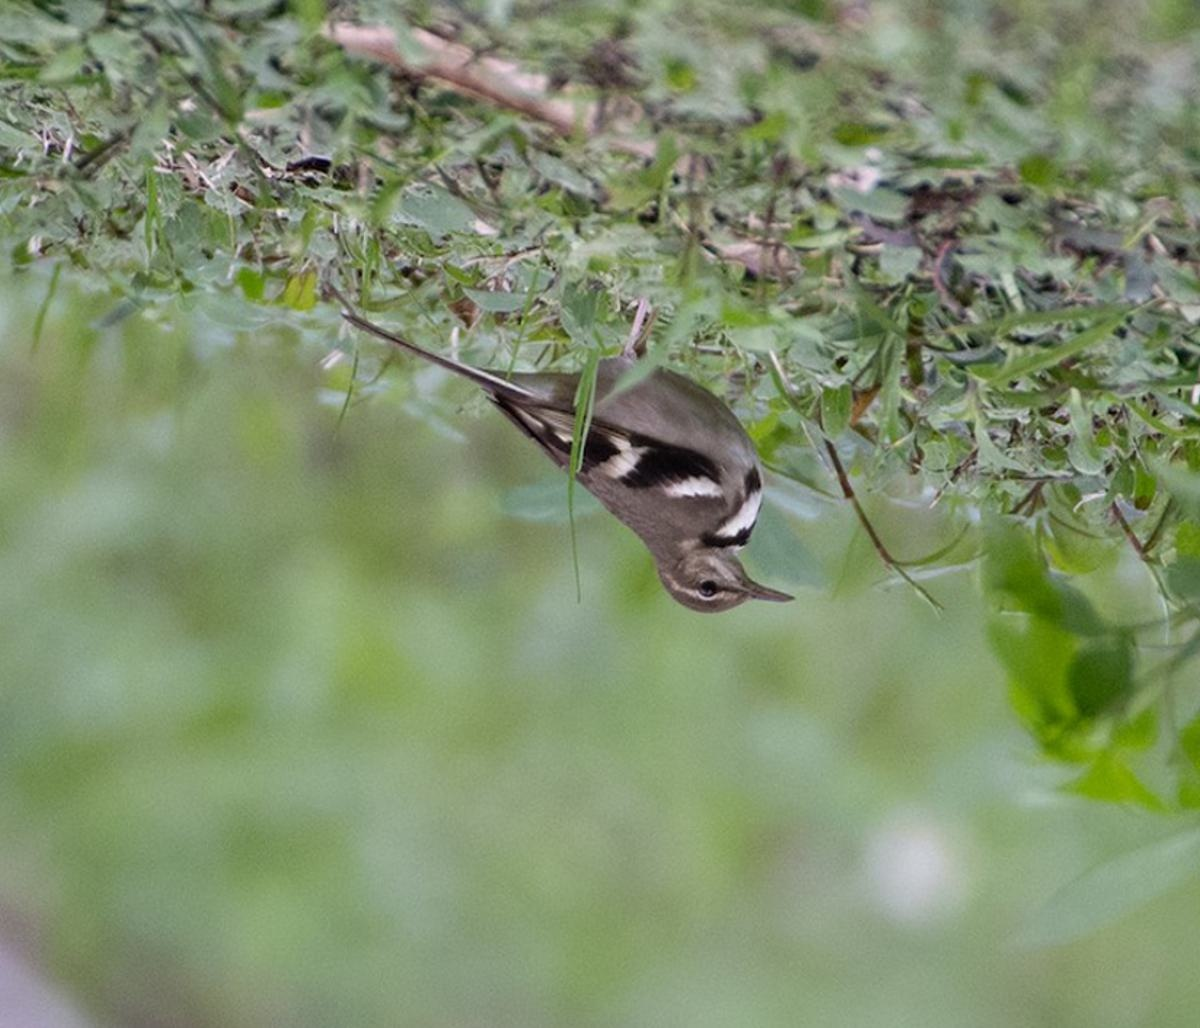wagtail: (432, 274, 842, 642)
